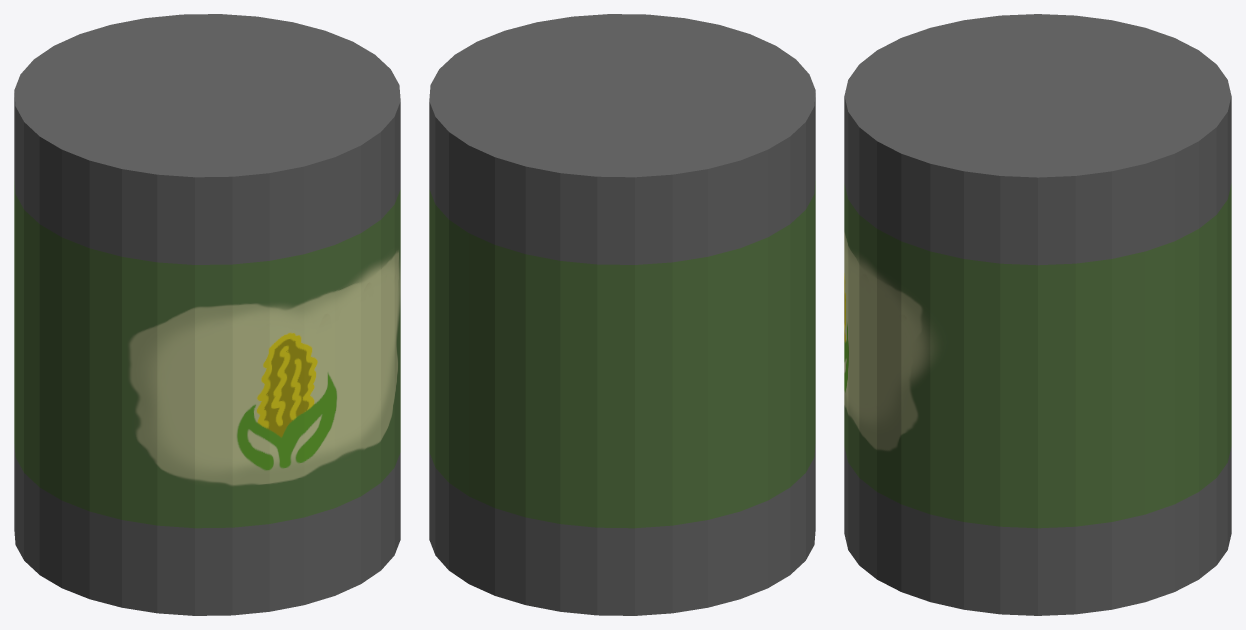
The model's file is Food Can Plant.glb.
3 views of the same model, side by side, from view 1: azimuth 30°, elevation 25°; view 2: azimuth 150°, elevation 25°; view 3: azimuth 270°, elevation 25° (orthographic).
Visible parts, largest first — view 1: Cylinder; view 2: Cylinder; view 3: Cylinder.
Part boxes in pixels (x1,y1,x2,y2): Cylinder: (14, 14, 400, 615); Cylinder: (429, 14, 815, 615); Cylinder: (844, 14, 1231, 615).
Size of the model in its own units: 0.2 by 0.25 by 0.2.
2 materials, 1 textured.
